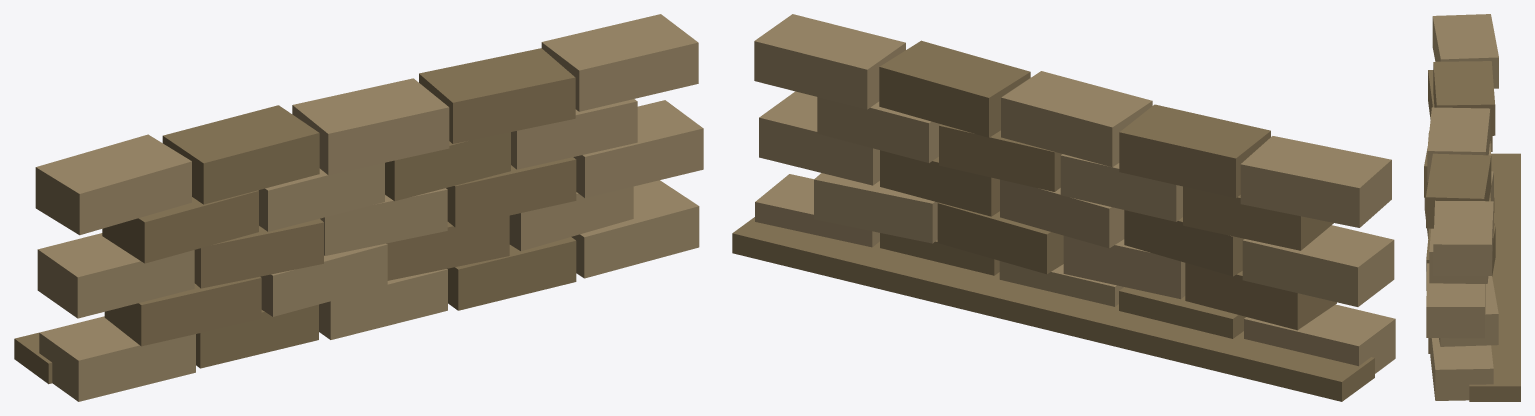
The model's file is prop_sandbag_wall.glb.
3 views of the same model, side by side, from view 1: azimuth 30°, elevation 25°; view 2: azimuth 150°, elevation 25°; view 3: azimuth 270°, elevation 25° (orthographic). The views are drawn at different scales.
Visible parts, largest first — view 1: prop_sandbag_wall; view 2: prop_sandbag_wall; view 3: prop_sandbag_wall.
Part boxes in pixels (x1,y1,x2,y2): prop_sandbag_wall: [14, 14, 703, 401]; prop_sandbag_wall: [732, 14, 1395, 401]; prop_sandbag_wall: [1424, 14, 1520, 401].
Bounding box in the file's own units: 3.2 × 1 × 0.5633.
